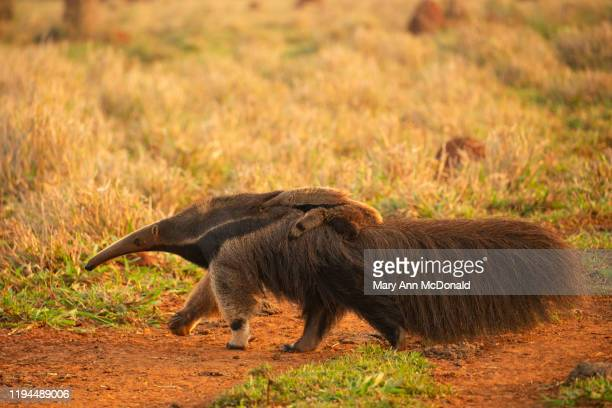TamanduaBandeira: (78, 188, 590, 360), (249, 186, 392, 246)
